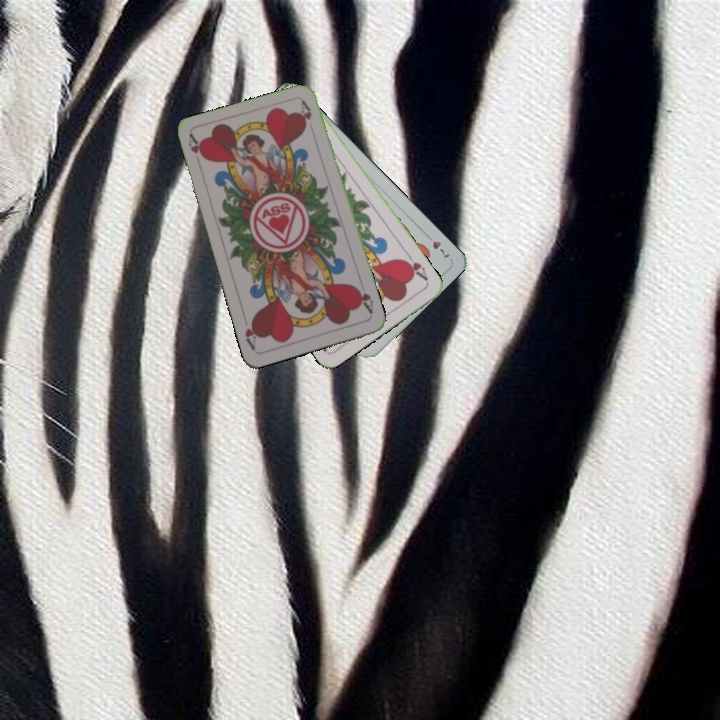H7: (420, 230, 453, 261)
HA: (399, 249, 431, 284), (184, 131, 208, 171), (351, 282, 376, 316)
